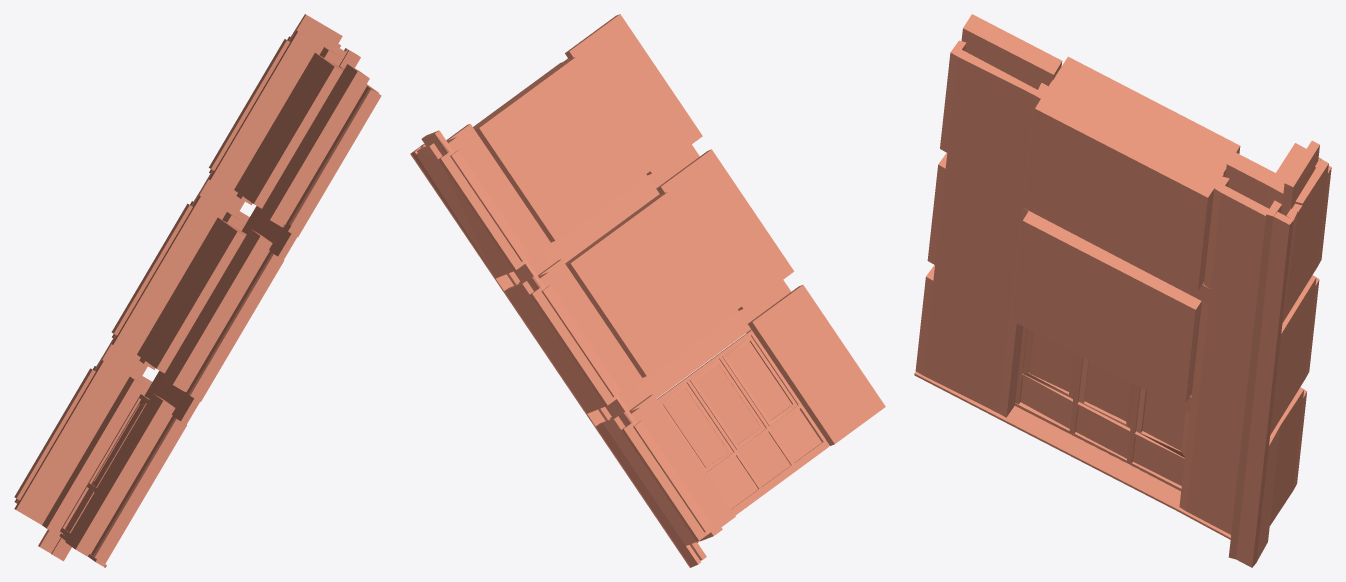
3 views of the same model, side by side, from view 1: azimuth 30°, elevation 25°; view 2: azimuth 150°, elevation 25°; view 3: azimuth 270°, elevation 25° (orthographic). The views are drawn at different scales.
Visible parts, largest first — view 1: mesh; view 2: mesh; view 3: mesh.
Boxes of the visible parts, x1,y1,x2,y2 form: mesh: (14, 14, 381, 567); mesh: (410, 14, 885, 567); mesh: (914, 14, 1331, 567).
Size of the model in its own units: 7.58 by 9.01 by 5.06.
